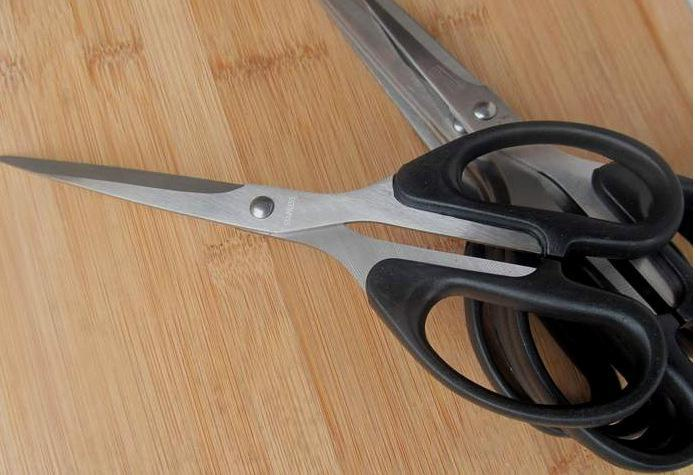scissor: (1, 122, 685, 426)
